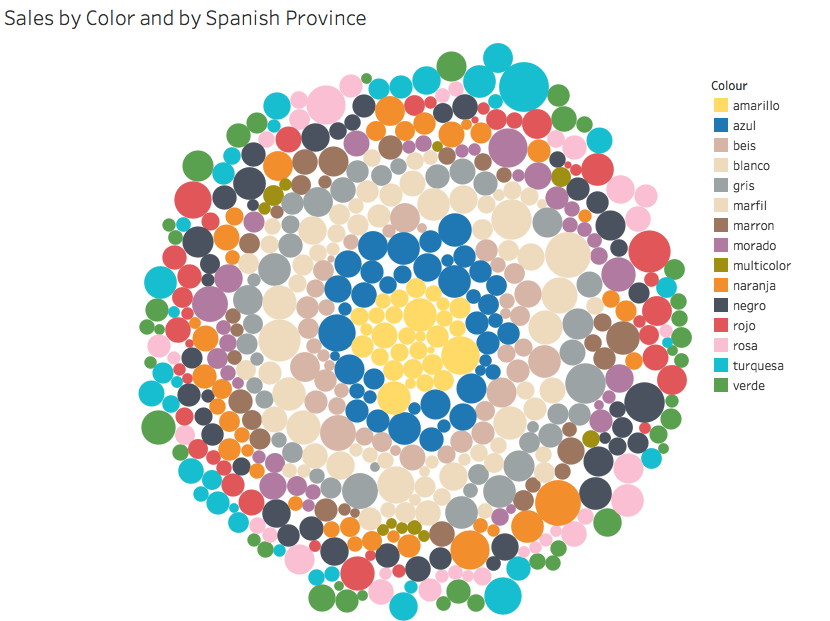

This screenshot's page, from the dashboard's own definition file:
{"tool":"tableau","page":{"name":"province","canvas":[1000,800],"ordinal":3},"visuals":[{"type":"worksheet","title":"province_color","mark":"Circle","box":[51,50,831,622]},{"type":"worksheet","title":"province_color","mark":"Circle","param":"[federated.1rtyosl1t4pgjn19zs6hu0os8li8].[none:colour:nk]","box":[762,128,140,318]}]}

Visuals, with their boxes on the page's 1000x800 design canvas (x1, y1, x2, y2). These are canvas units, not pixel positions in the 830x621 screenshot, which may show the page scaled, cropped or inside an application window:
"province_color" worksheet (Circle marks): locate(51, 50, 882, 672)
"province_color" worksheet (Circle marks): locate(762, 128, 902, 446)
